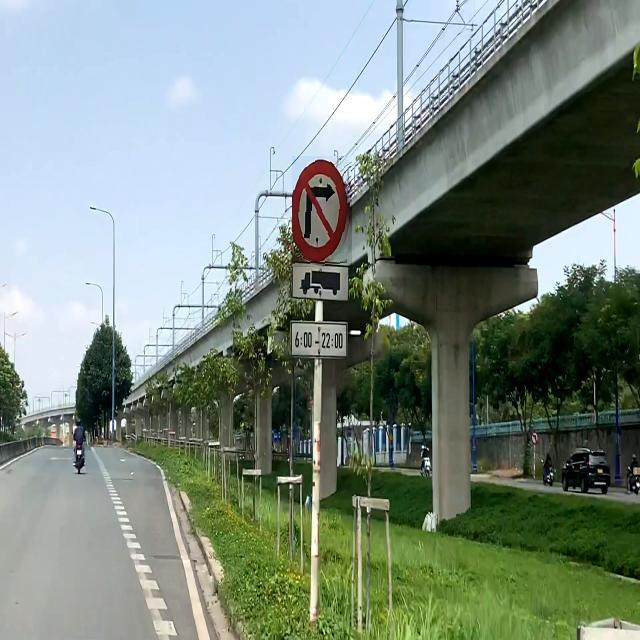P-123b: (292, 156, 352, 267)
